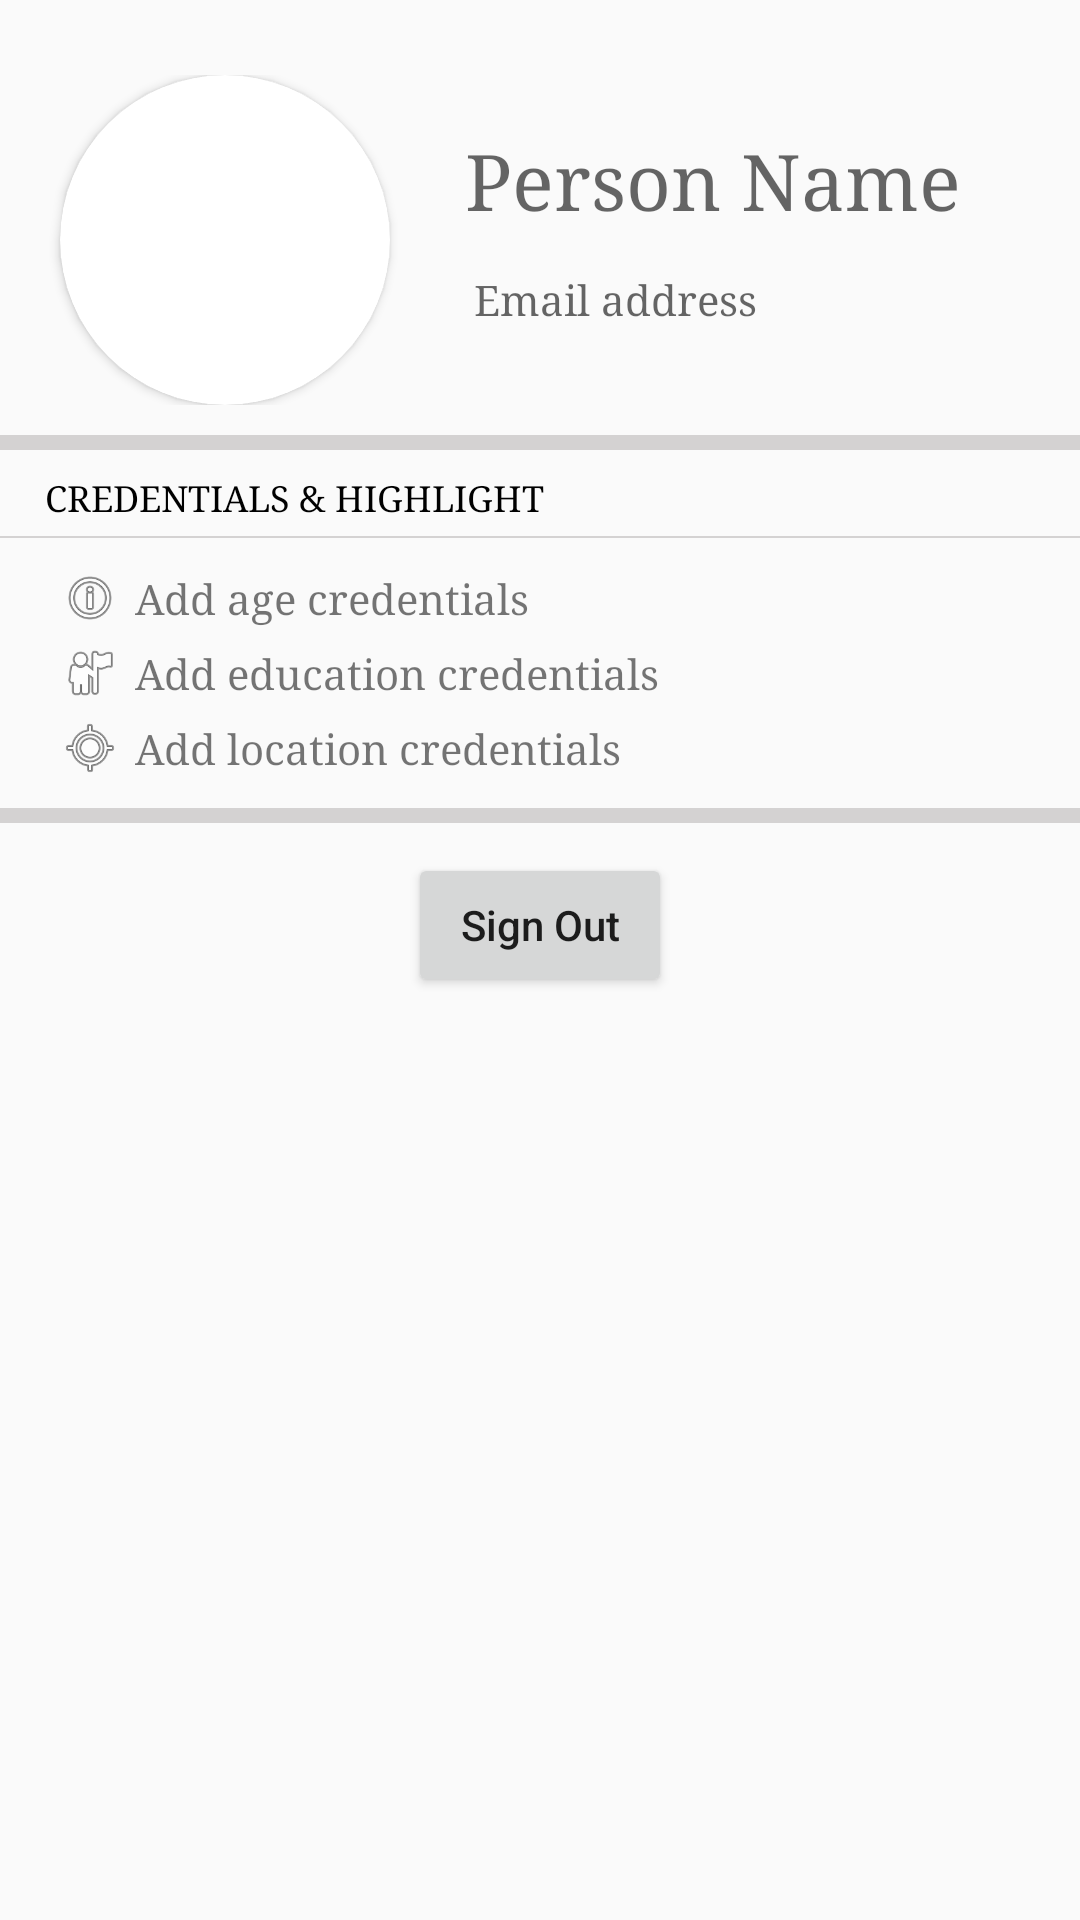

Named icons in this screenshot (1080 x 1920) and their centers, [x,y]:
info details: [90,598]
mylocation: [90,748]
